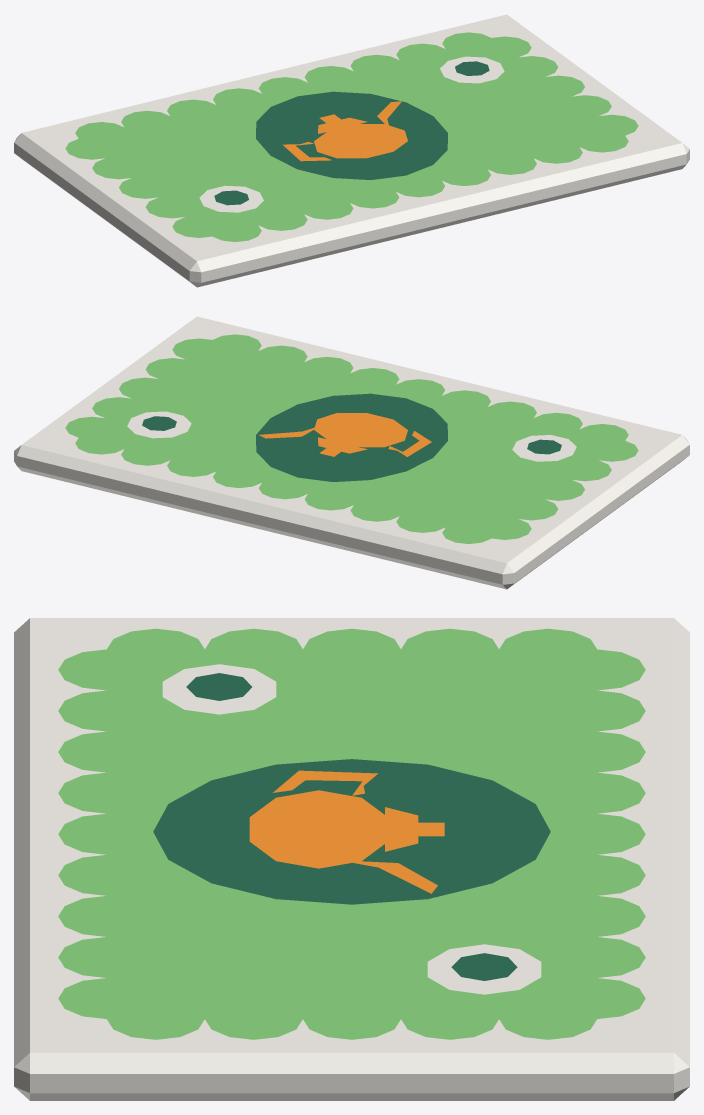
Rendered from banknote.glb.
3 renders of one model, top to bottom at view 1: azimuth 30°, elevation 25°; view 2: azimuth 150°, elevation 25°; view 3: azimuth 270°, elevation 25°, orthographic. The views are drawn at different scales.
Parts seen in each view (by area): view 1: banknote; view 2: banknote; view 3: banknote.
Part boxes in pixels (left/top/right/bottom): banknote: left=14, top=14, right=689, bottom=287; banknote: left=14, top=316, right=689, bottom=589; banknote: left=14, top=618, right=689, bottom=1100.
Bounding box in the file's own units: 0.8 × 0.054 × 0.51.
1 material, 1 textured.
